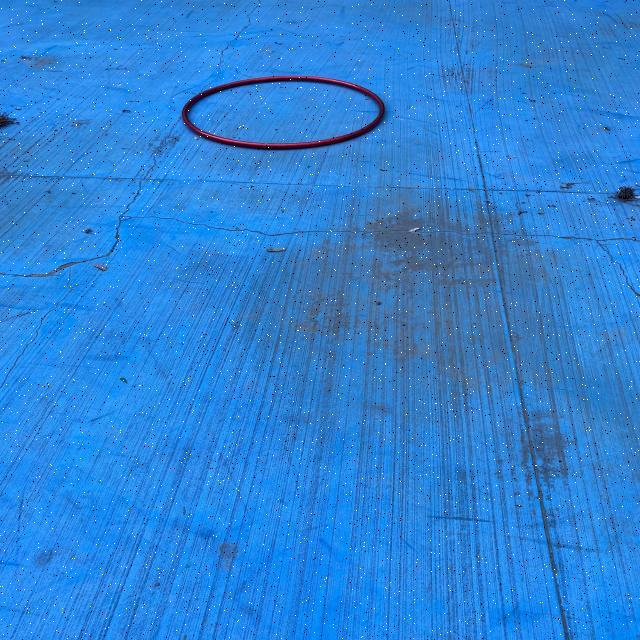Circle: (180, 75, 386, 150)
